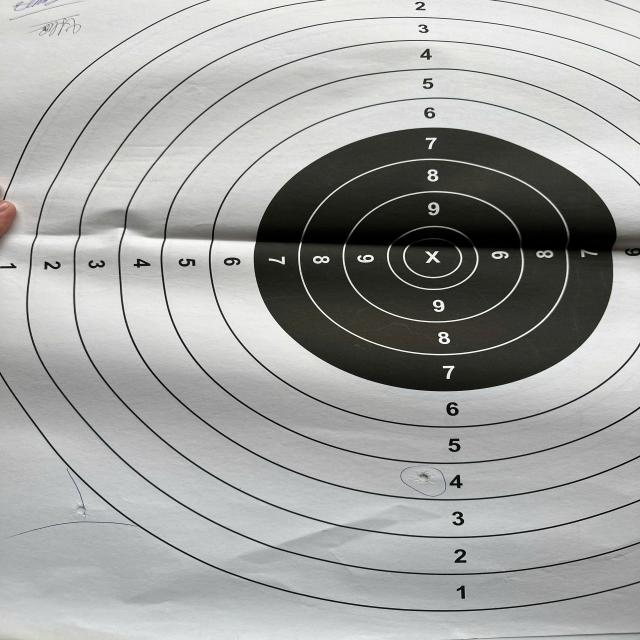bullet: (76, 504, 88, 516), (420, 472, 428, 484)
target: (0, 0, 640, 640)
